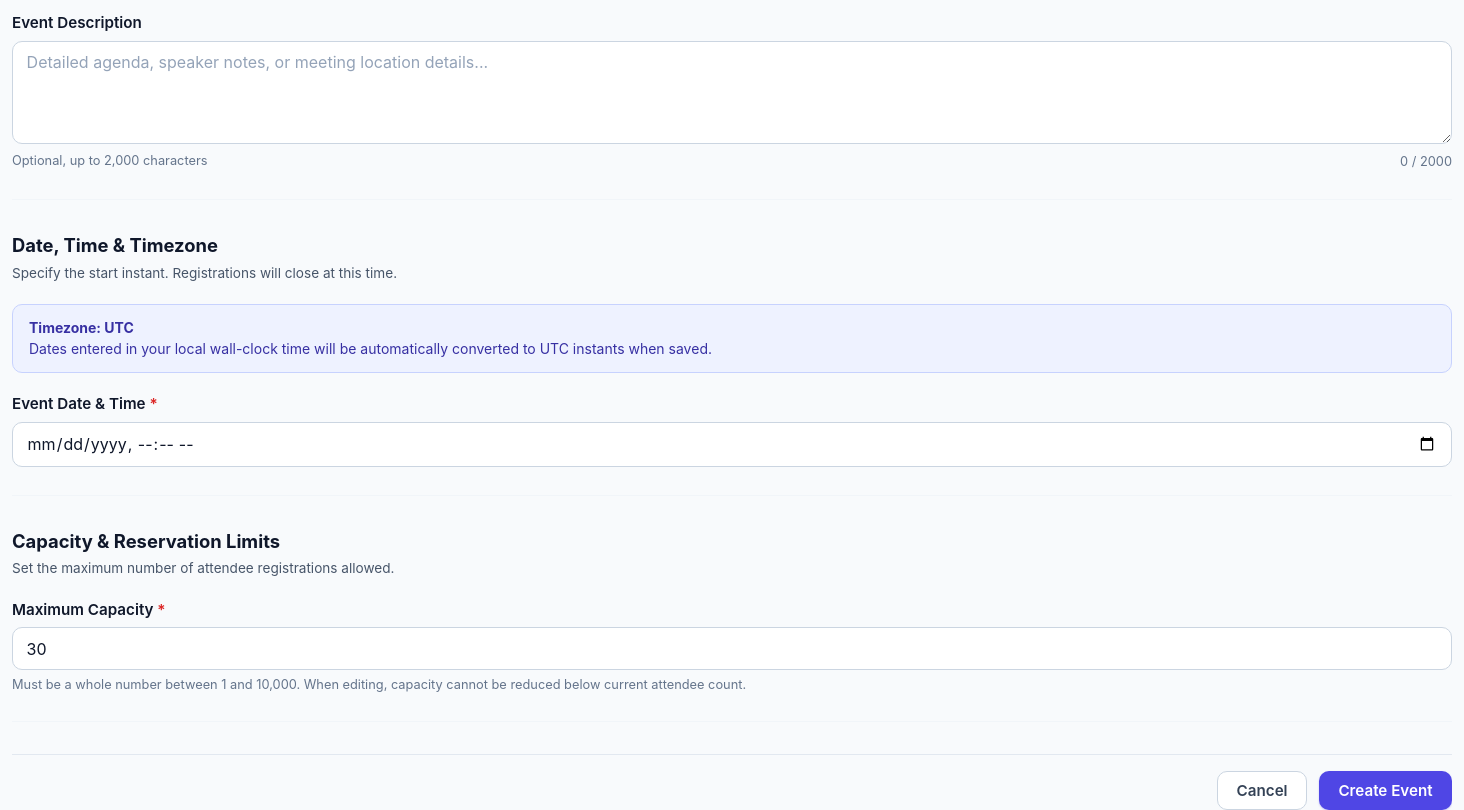
Test: EventForm Component › validates empty title and required fields before submit
(page scrolled)
Note: Submit with empty title
Click the button "Create Event" at (1386,791), box [1319, 772, 1452, 809]
(page scrolled)
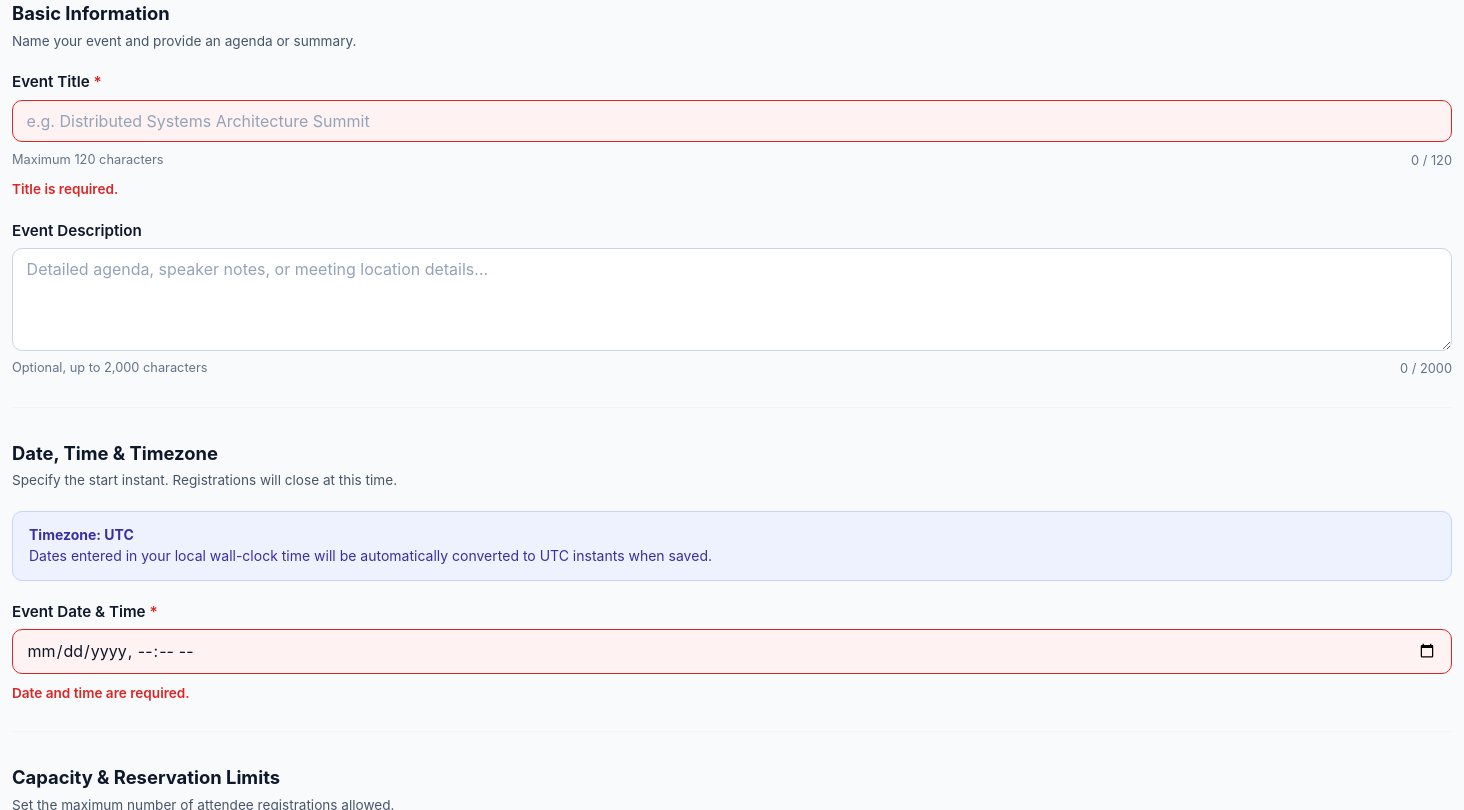
Now the text "Title is required." is shown, box [12, 181, 118, 197]
